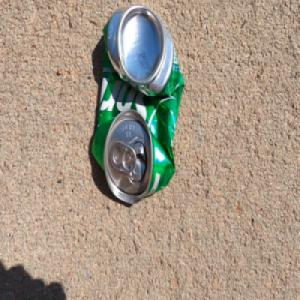SodaCan: (92, 9, 185, 205)
